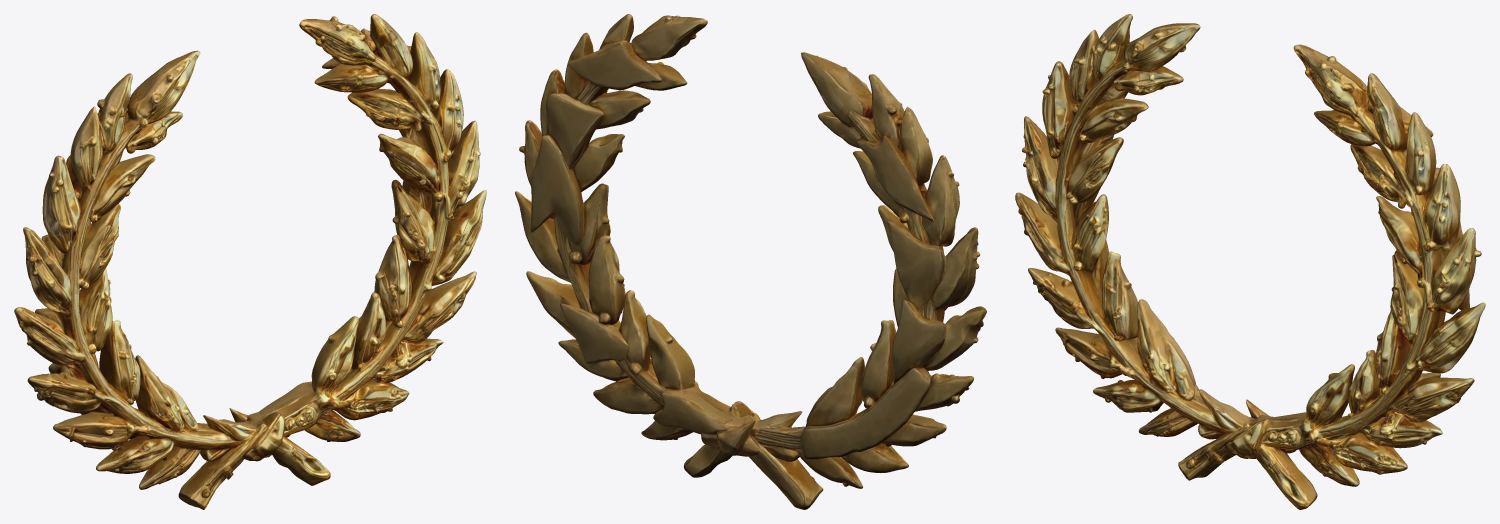
File: trophy.glb
The picture shows the model from 3 angles, left to right: view 1: azimuth 30°, elevation 25°; view 2: azimuth 150°, elevation 25°; view 3: azimuth 330°, elevation 25°; orthographic projection.
Parts seen in each view (by area): view 1: tripo_node_5c6a7d32-8e66-408e-a6bc-14de67adfffe; view 2: tripo_node_5c6a7d32-8e66-408e-a6bc-14de67adfffe; view 3: tripo_node_5c6a7d32-8e66-408e-a6bc-14de67adfffe.
Part boxes in pixels (bbox=[...]): tripo_node_5c6a7d32-8e66-408e-a6bc-14de67adfffe: bbox=[14, 14, 486, 509]; tripo_node_5c6a7d32-8e66-408e-a6bc-14de67adfffe: bbox=[515, 14, 986, 509]; tripo_node_5c6a7d32-8e66-408e-a6bc-14de67adfffe: bbox=[1015, 14, 1485, 509].
Size of the model in its own units: 0.9796 by 0.9188 by 0.1034.
1 material, 1 textured.
